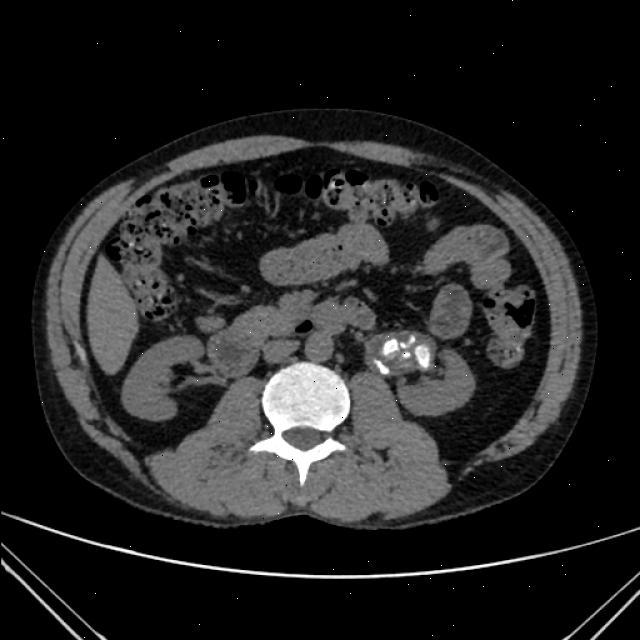kidneystone: (382, 339, 399, 356), (417, 346, 430, 368), (376, 360, 389, 374), (406, 335, 415, 347), (404, 352, 409, 357)
